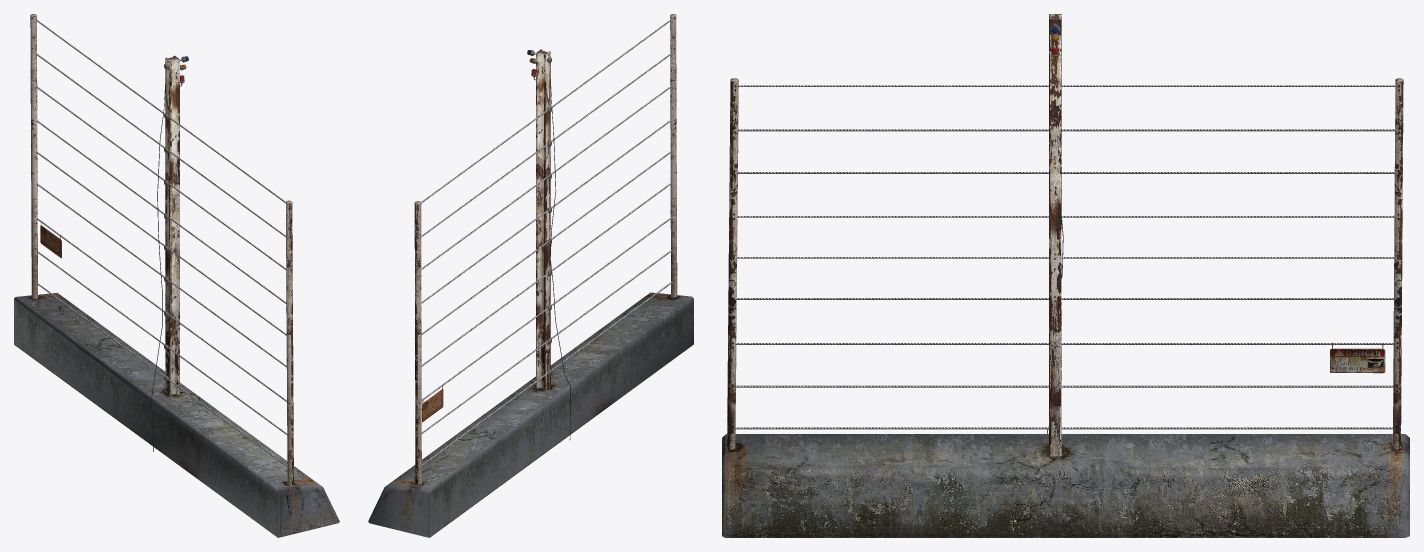
The model's file is dirty_fence.gltf.
The picture shows the model from 3 angles, left to right: view 1: azimuth 30°, elevation 25°; view 2: azimuth 150°, elevation 25°; view 3: azimuth 270°, elevation 25°; orthographic projection. The views are drawn at different scales.
Parts seen in each view (by area): view 1: Object_2; view 2: Object_2; view 3: Object_2.
Boxes of the visible parts, x1,y1,x2,y2 form: Object_2: (14,14,339,537); Object_2: (368,14,693,537); Object_2: (722,14,1409,537).
Bounding box in the file's own units: 0.6919 × 3.93 × 4.88.
1 material, 1 textured.
